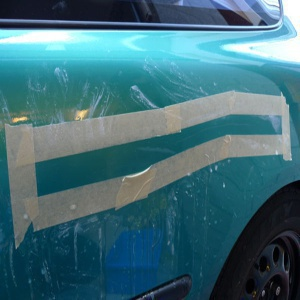bumper_scratch: (81, 204, 160, 274)
